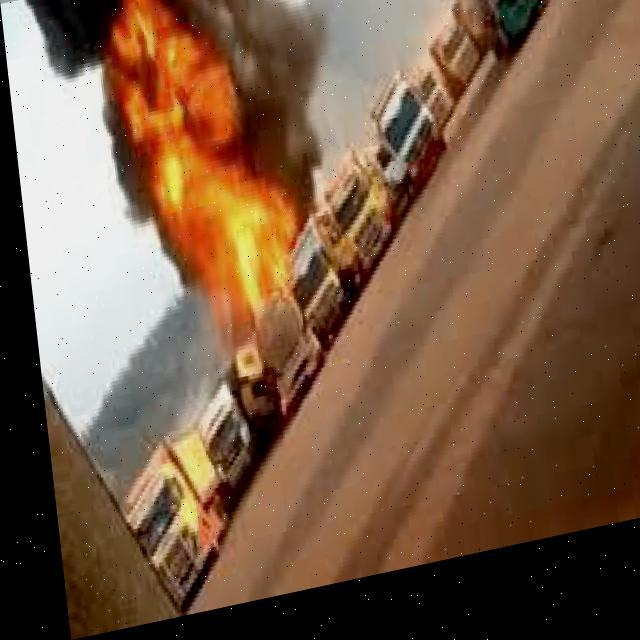Fire: (72, 0, 325, 350)
